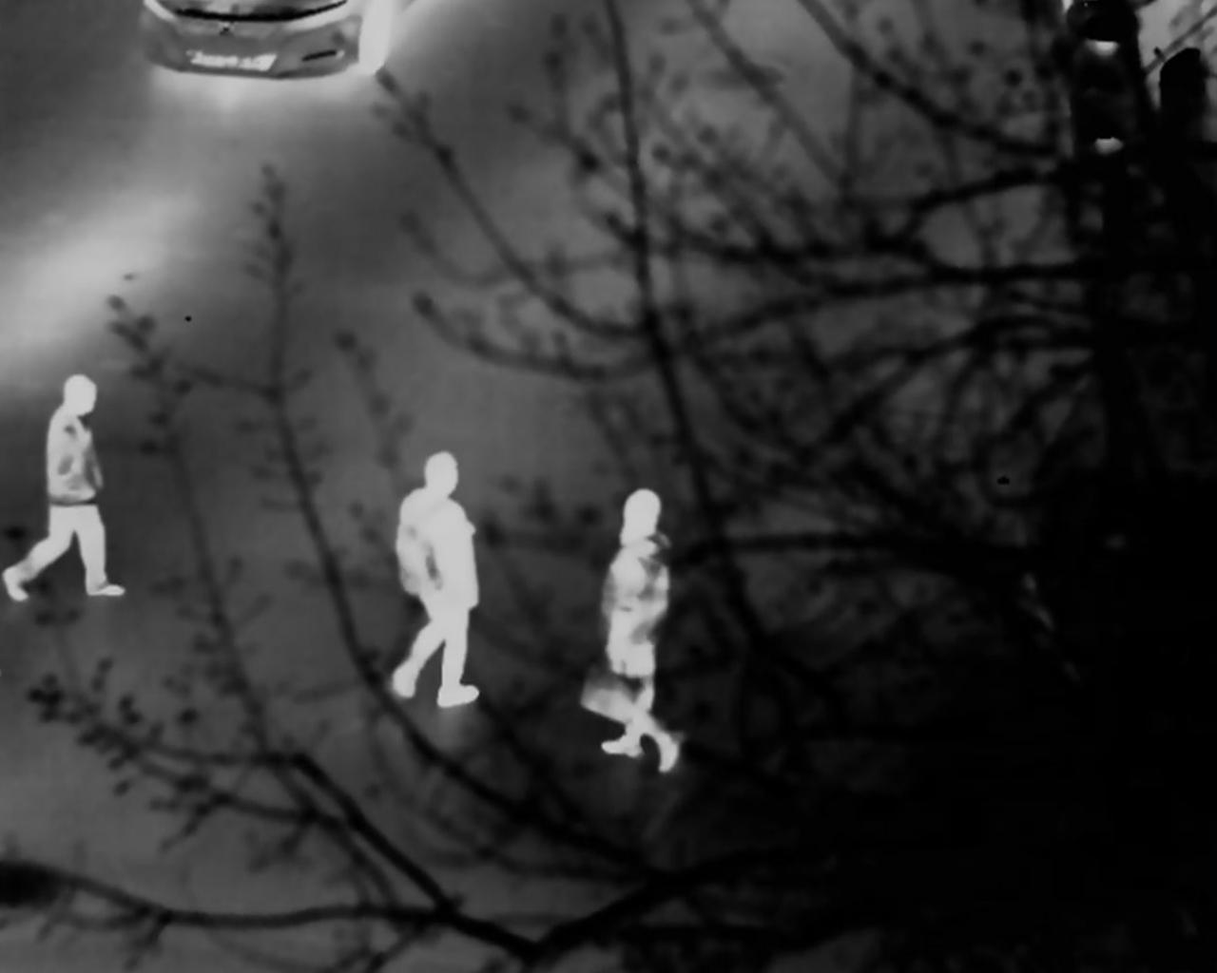person: (371, 441, 501, 707), (598, 486, 686, 770)
